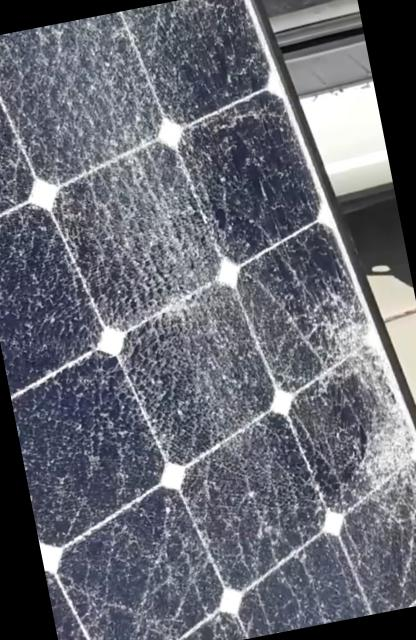Crack: (24, 136, 253, 348), (95, 292, 298, 492), (0, 8, 181, 190), (287, 266, 415, 498)
